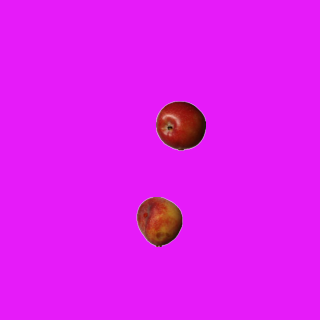Apple Braeburn: (155, 100, 205, 150)
Peach: (134, 196, 184, 246)
